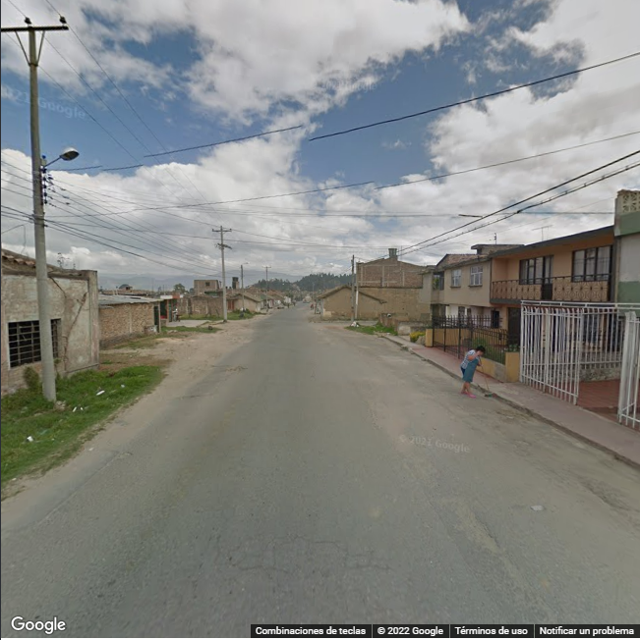D00: (21, 448, 121, 532)
D10: (225, 566, 290, 575), (334, 563, 390, 572), (277, 539, 347, 546)
D40: (445, 500, 512, 554)
